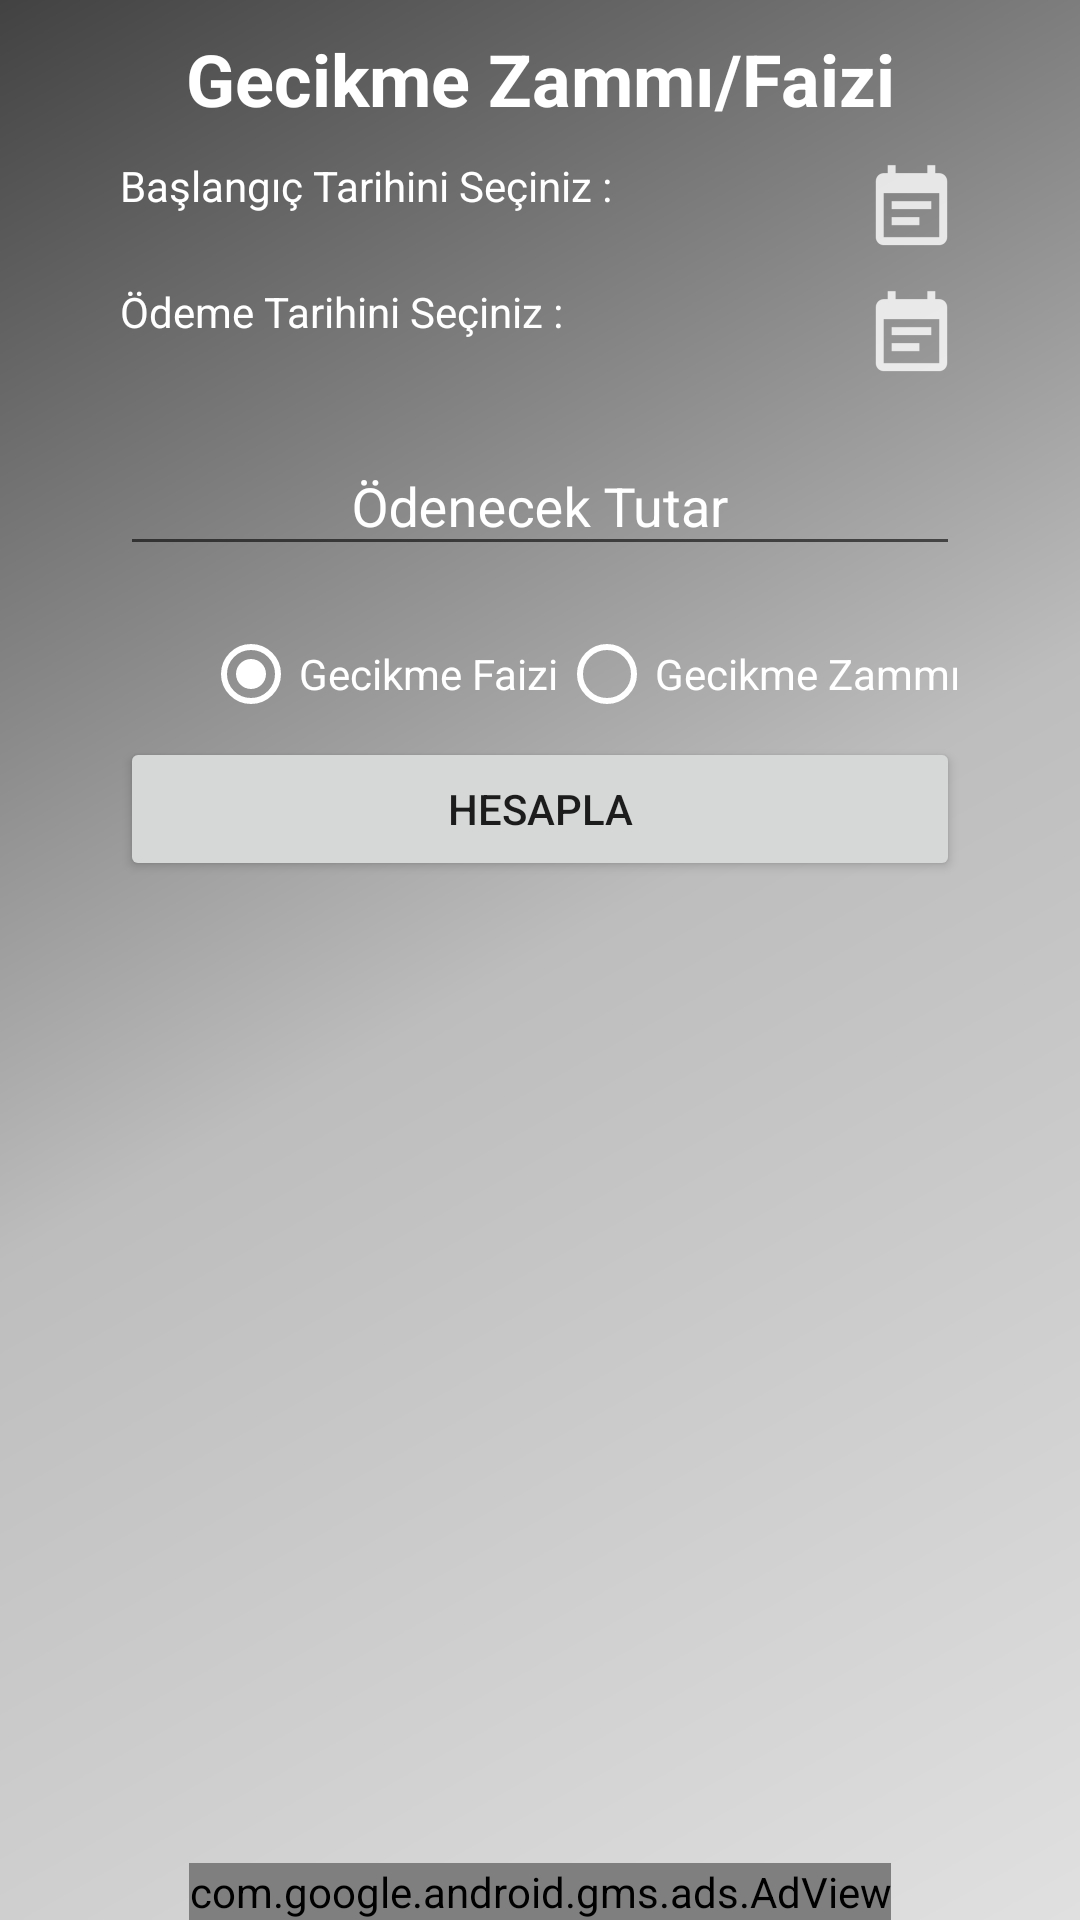

Where to tap for icons on this 1080x1920 app screen, as [x,y]:
datepicker: [911,205], [911,331]
